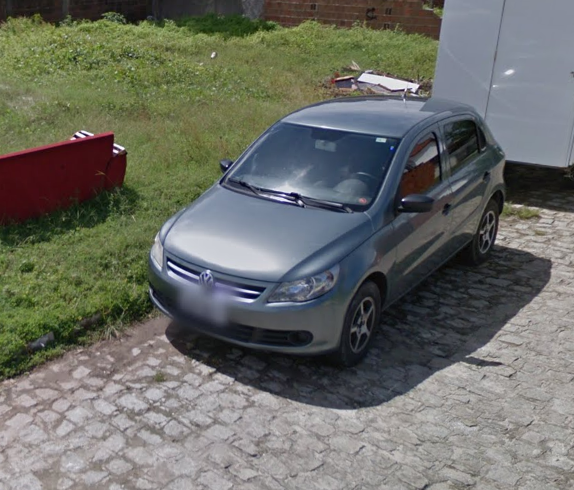car: (142, 89, 509, 371)
